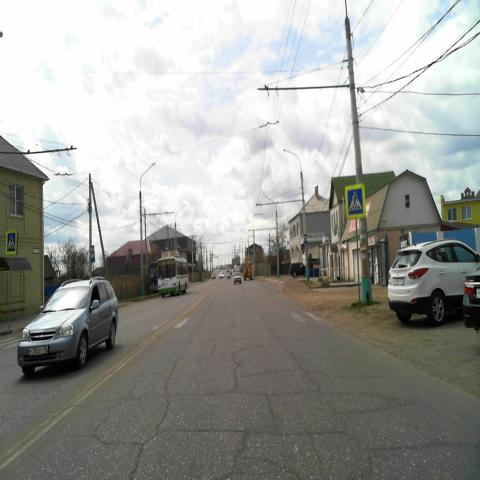5_19_1: (345, 185, 366, 219)
